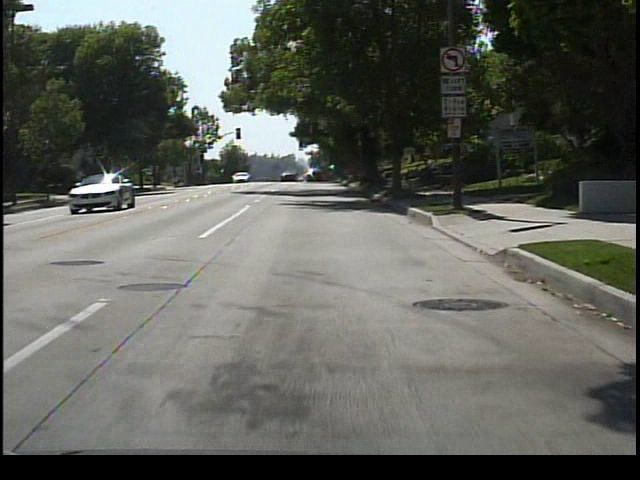person: (417, 153, 439, 189)
